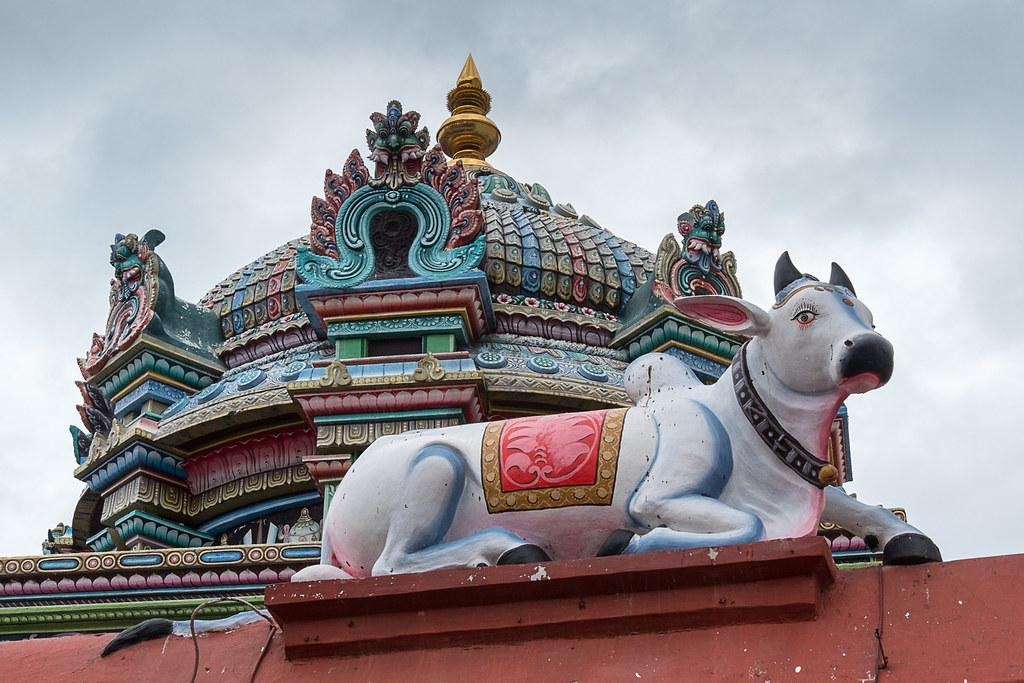temple: (7, 50, 943, 633)
